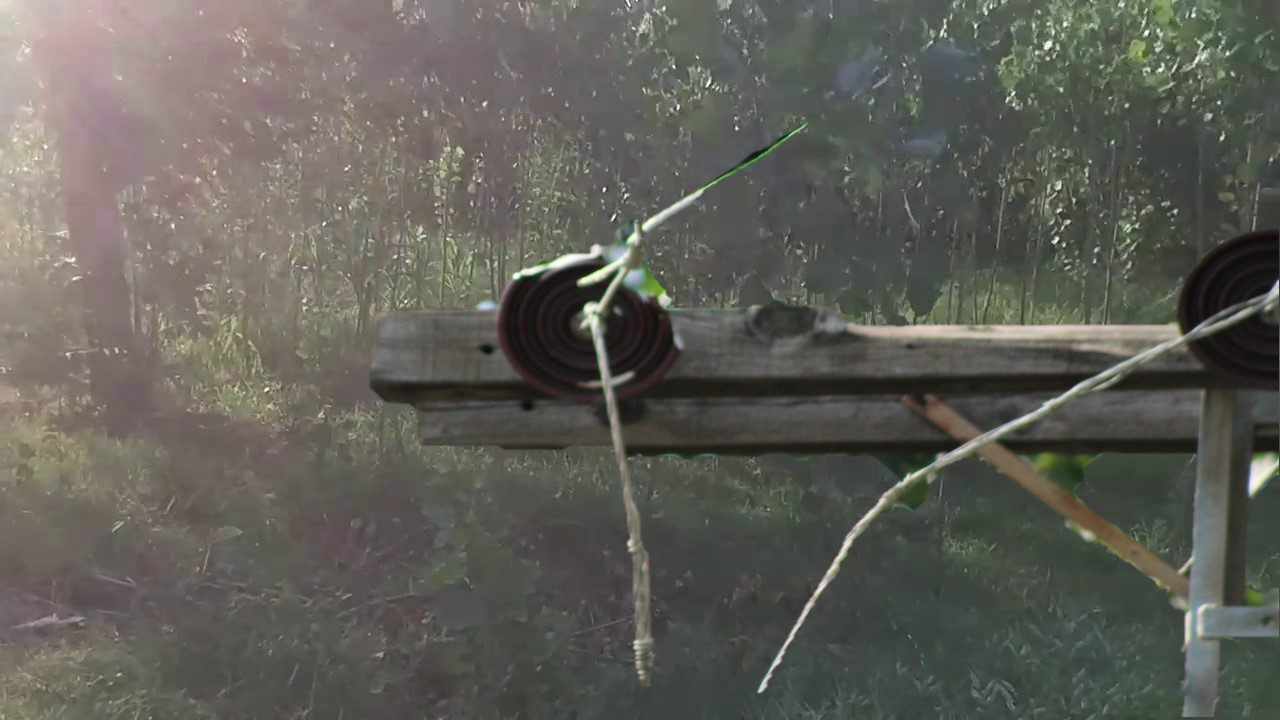defect_disc: (495, 238, 688, 413)
